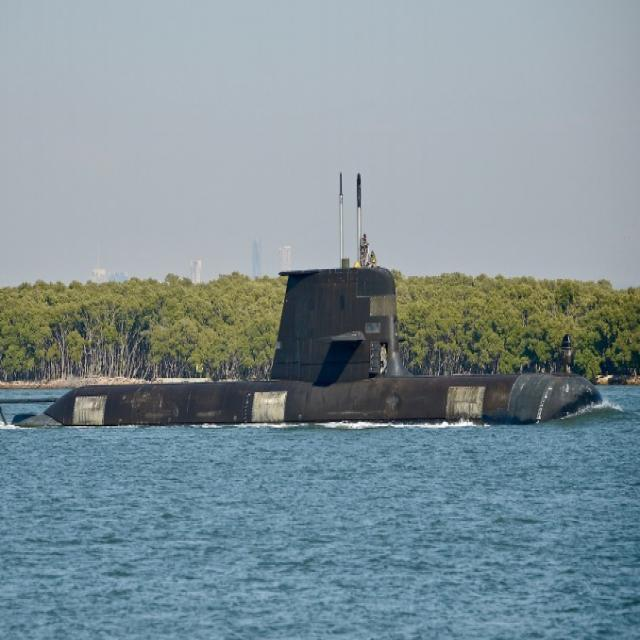submarine: (1, 262, 636, 431)
